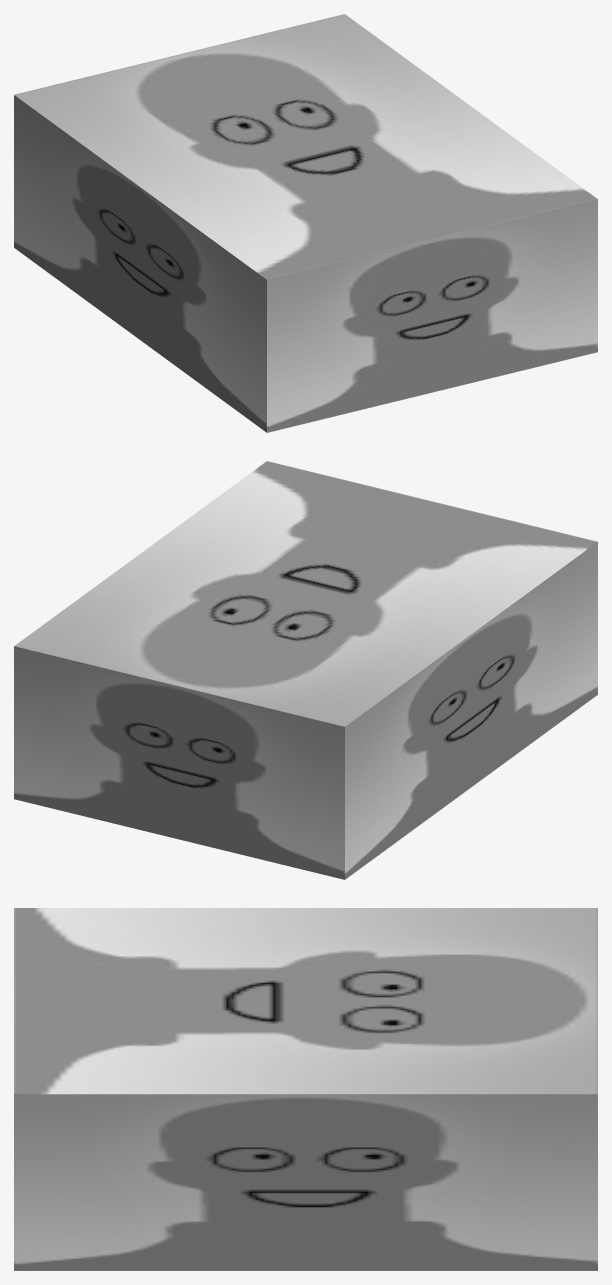
The model's file is zxc.FBX.
The picture shows the model from 3 angles, top to bottom: view 1: azimuth 30°, elevation 25°; view 2: azimuth 150°, elevation 25°; view 3: azimuth 270°, elevation 25°; orthographic projection. The views are drawn at different scales.
Parts seen in each view (by area): view 1: Box01; view 2: Box01; view 3: Box01.
Part boxes in pixels (x1=…): Box01: x1=14, y1=14, x2=597, y2=432; Box01: x1=14, y1=461, x2=597, y2=879; Box01: x1=14, y1=908, x2=597, y2=1270.
Size of the model in its own units: 44.42 by 19.62 by 58.83.
